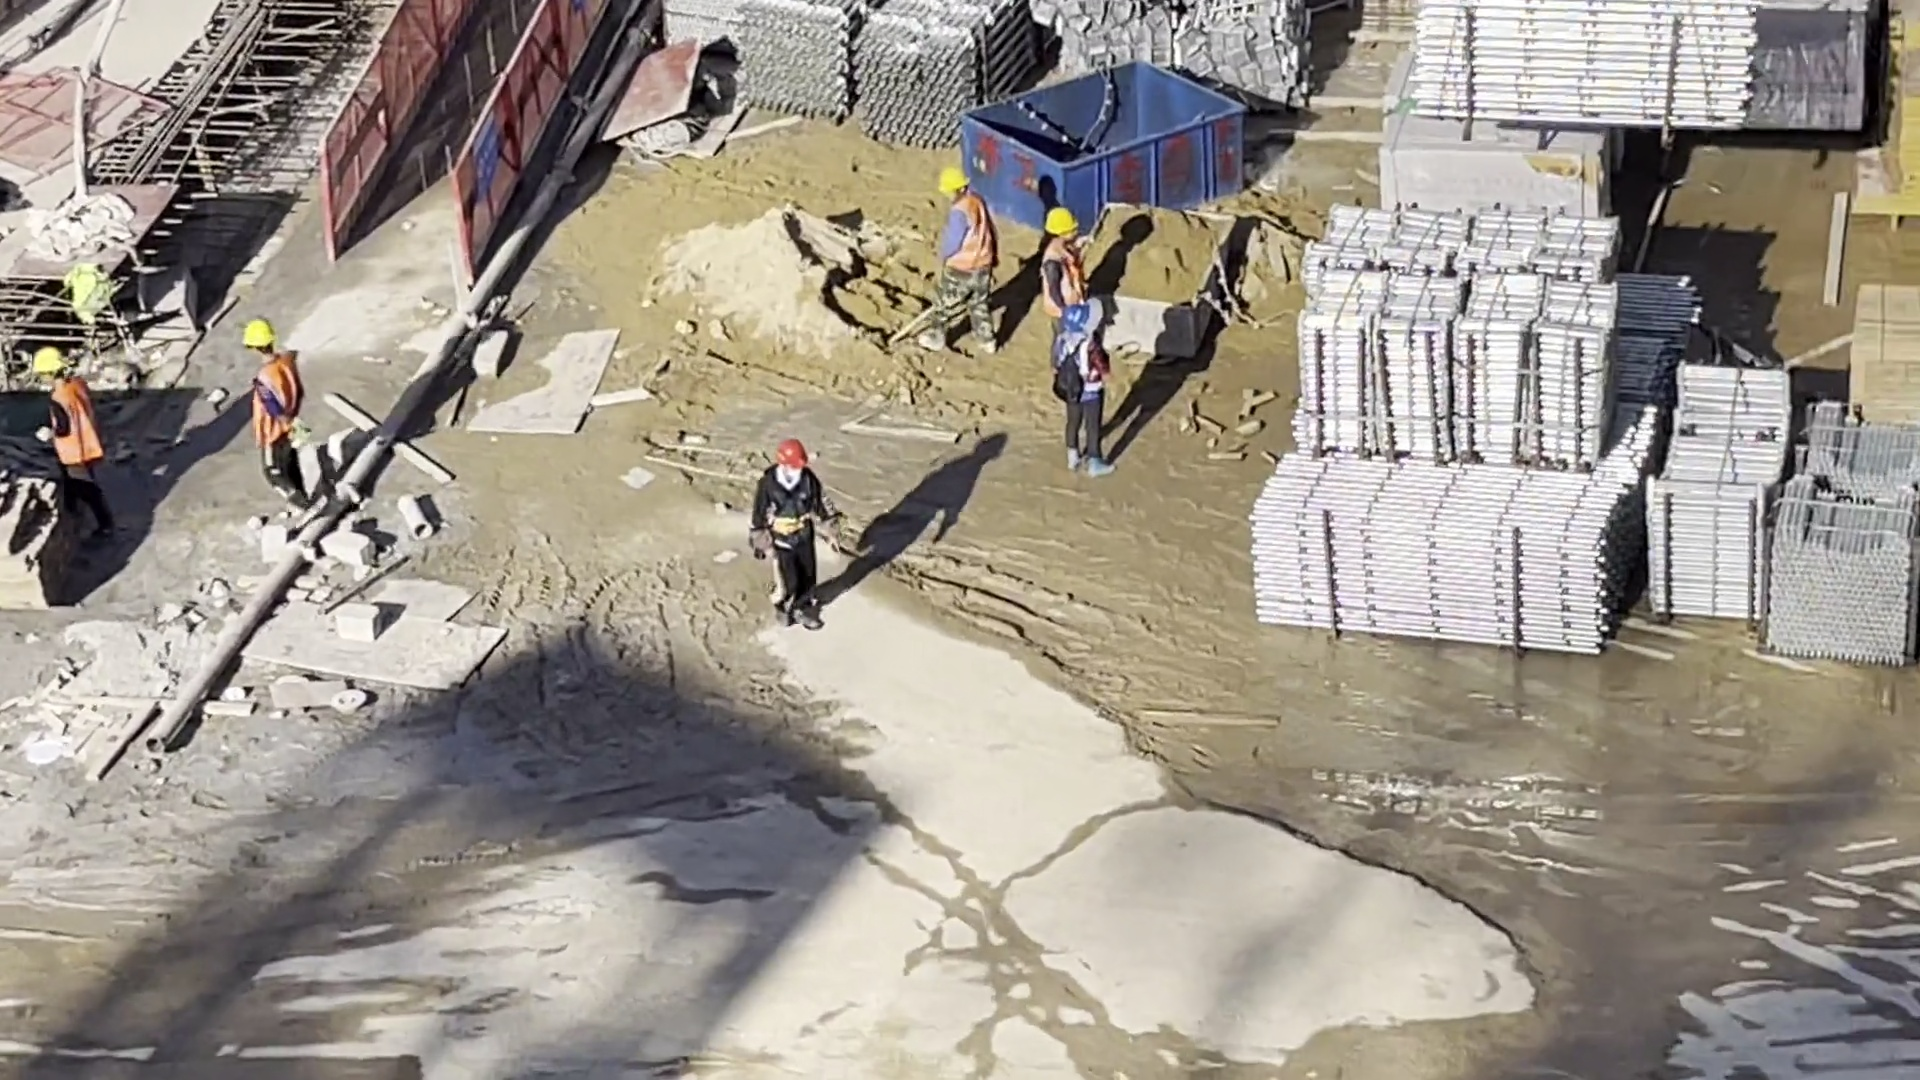board: (1878, 6, 1920, 212), (1848, 284, 1920, 394)
fence: (331, 3, 616, 266)
helmet: (242, 319, 277, 349), (776, 440, 807, 469), (32, 349, 65, 376), (939, 166, 969, 192), (1045, 208, 1077, 232), (1062, 305, 1089, 330)
hopper: (961, 64, 1244, 220), (1078, 196, 1236, 364)
person: (33, 349, 107, 534), (936, 165, 1000, 354), (758, 440, 819, 631), (242, 319, 302, 507), (1054, 303, 1113, 477), (1040, 208, 1088, 341)
scaffold: (1298, 211, 1617, 466), (1255, 454, 1633, 660), (1416, 1, 1751, 126), (1775, 401, 1920, 671), (747, 1, 1033, 137), (1646, 361, 1775, 622)
slogan: (471, 116, 497, 193)
vest: (254, 357, 298, 445), (51, 381, 98, 460), (1042, 243, 1086, 315), (956, 203, 998, 272), (1055, 338, 1104, 393)
